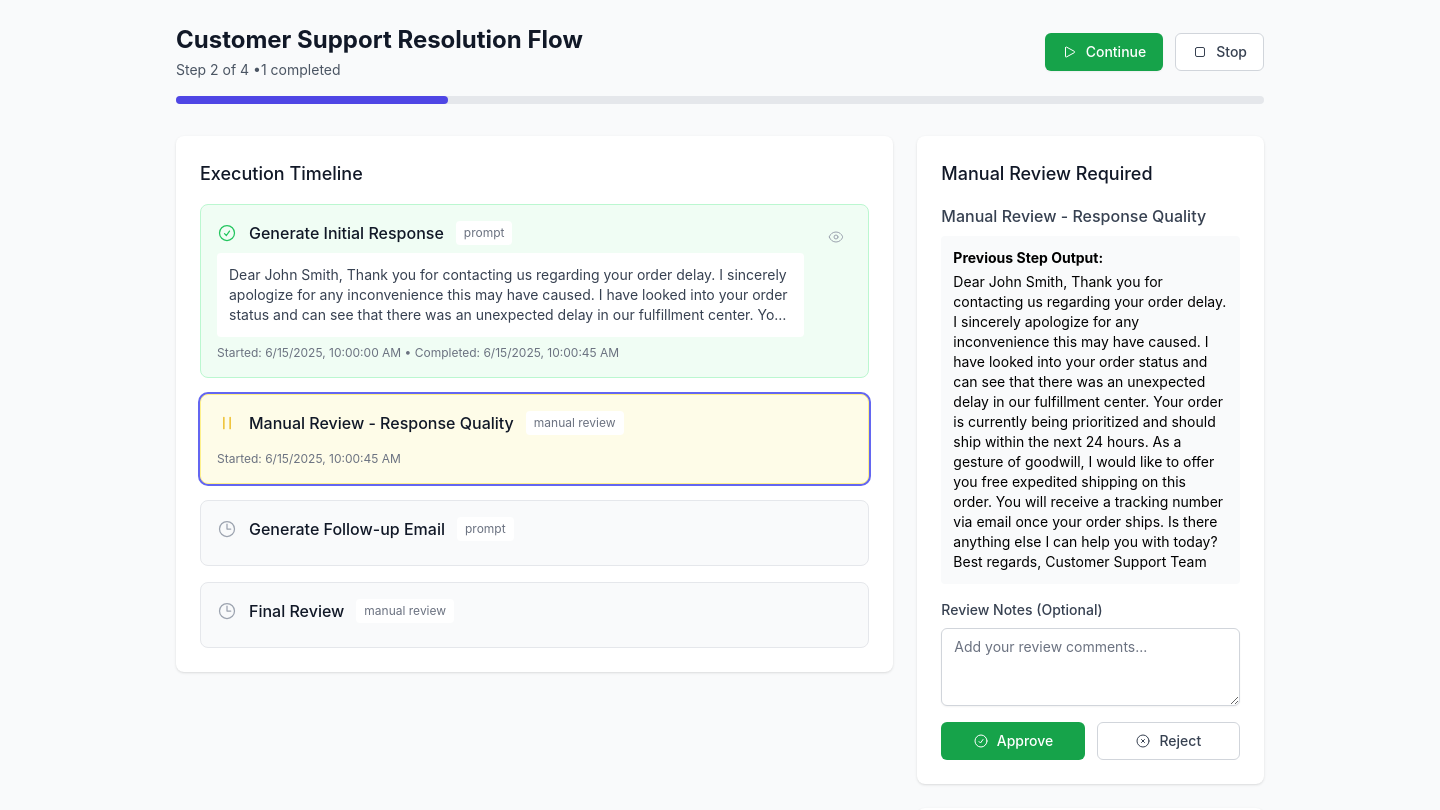
Scenario: PlaybookRunner › should show Pause button when execution is running
This screenshot has width=1440, height=810.
Click the button "Continue" at (1104, 52), box [1045,33,1163,71]
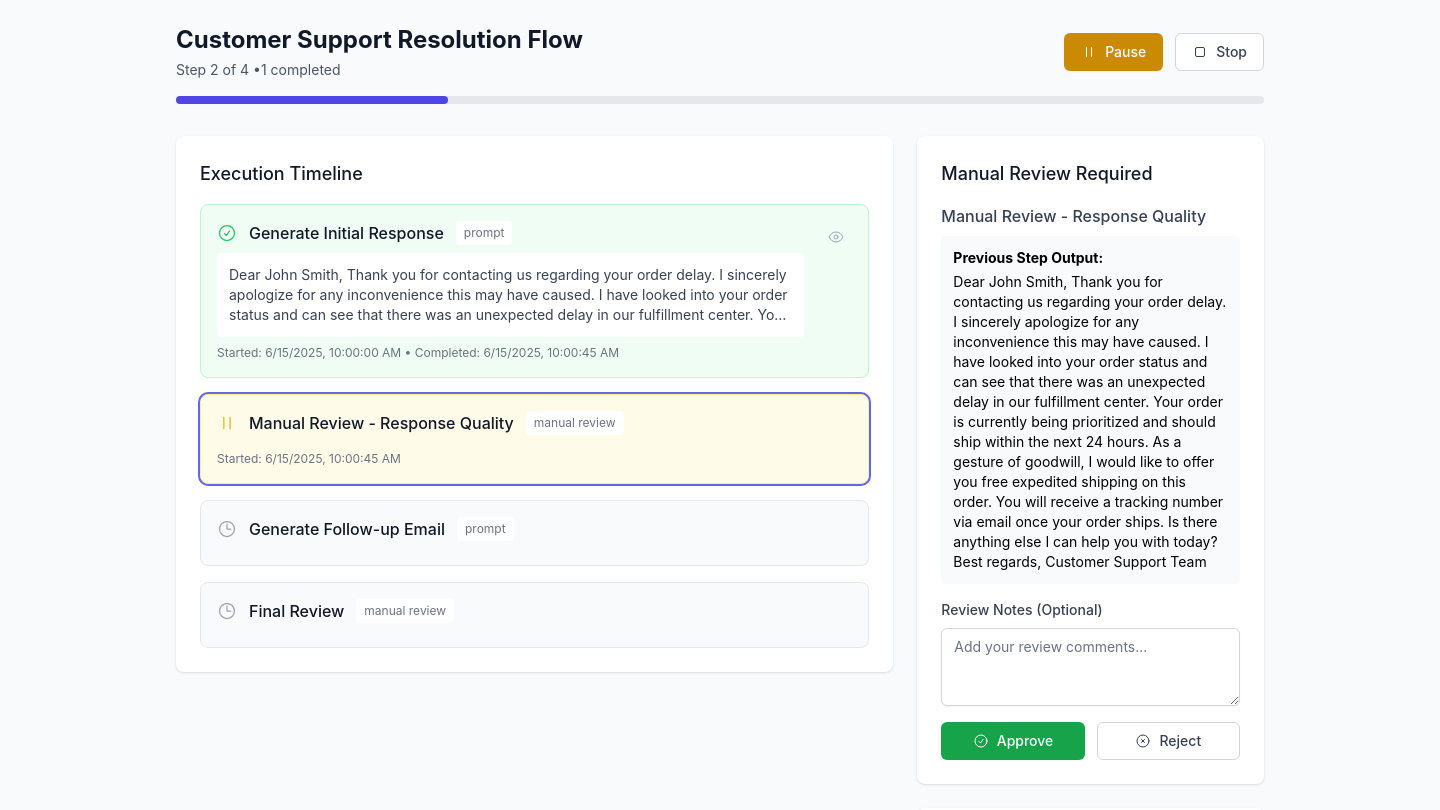
Check: the button "Pause" is shown, box [1064,33,1163,71]
